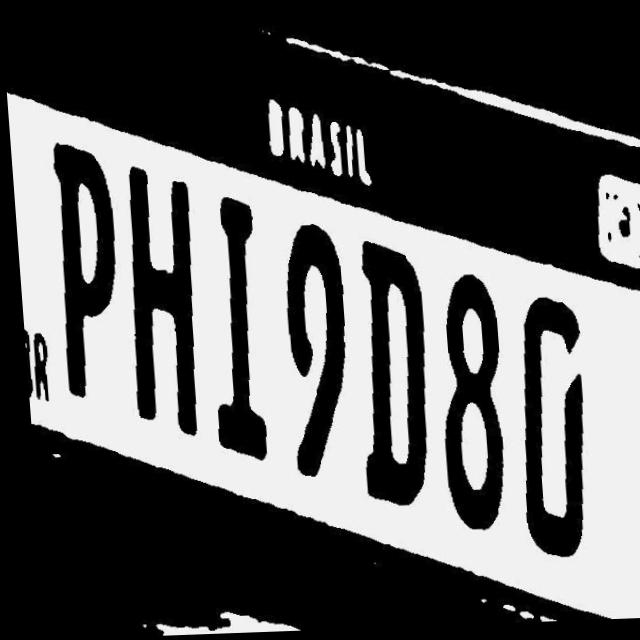0: (497, 269, 594, 582)
8: (423, 269, 515, 540)
9: (265, 213, 360, 489)
d: (337, 248, 437, 520)
h: (117, 164, 201, 449)
i: (194, 189, 269, 483)
p: (32, 140, 123, 410)
